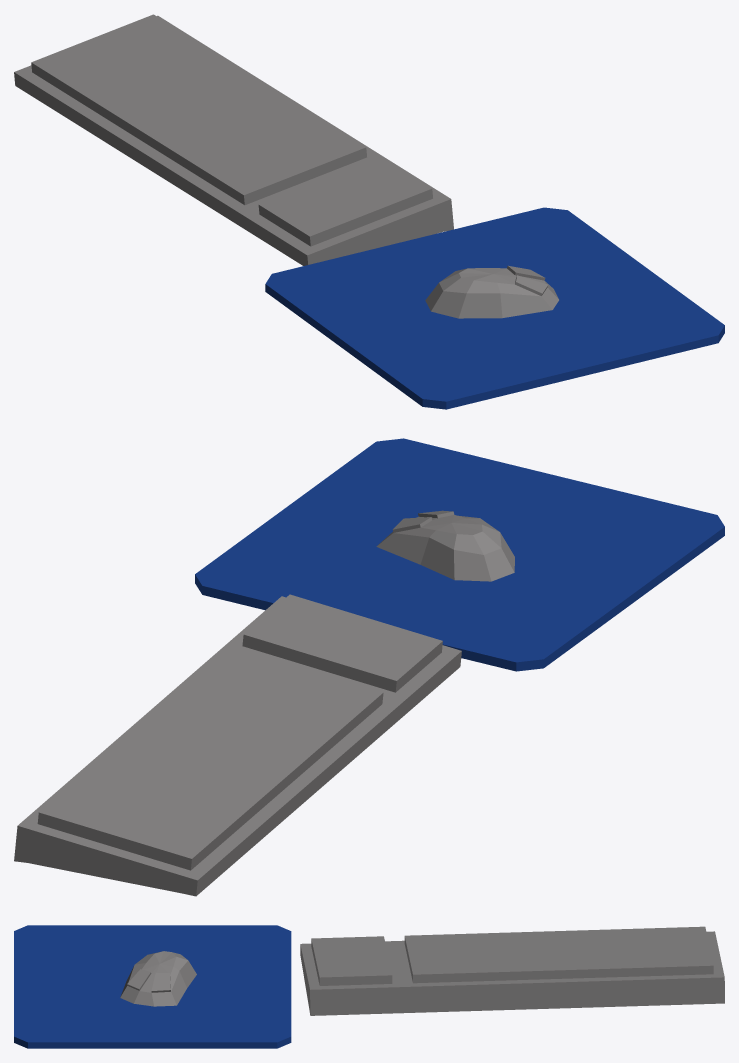
Rendered from 06_mouse_and_keyboard_householdpropschallenge.glb.
3 views of the same model, one above another, from view 1: azimuth 30°, elevation 25°; view 2: azimuth 150°, elevation 25°; view 3: azimuth 270°, elevation 25° (orthographic). The views are drawn at different scales.
Parts seen in each view (by area): view 1: Cube, Cube.001, Sphere; view 2: Cube, Cube.001, Sphere; view 3: Cube, Cube.001, Sphere.
Part boxes in pixels (left/top/right/bottom): Cube: left=14, top=14, right=453, bottom=265; Cube.001: left=265, top=207, right=724, bottom=409; Sphere: left=425, top=265, right=558, bottom=318; Cube: left=14, top=594, right=461, bottom=896; Cube.001: left=195, top=438, right=724, bottom=671; Sphere: left=376, top=510, right=514, bottom=581; Cube: left=300, top=926, right=724, bottom=1015; Cube.001: left=14, top=925, right=291, bottom=1048; Sphere: left=120, top=951, right=196, bottom=1006.
Bounding box in the file's own units: 0.2 × 0.0257 × 0.513.
